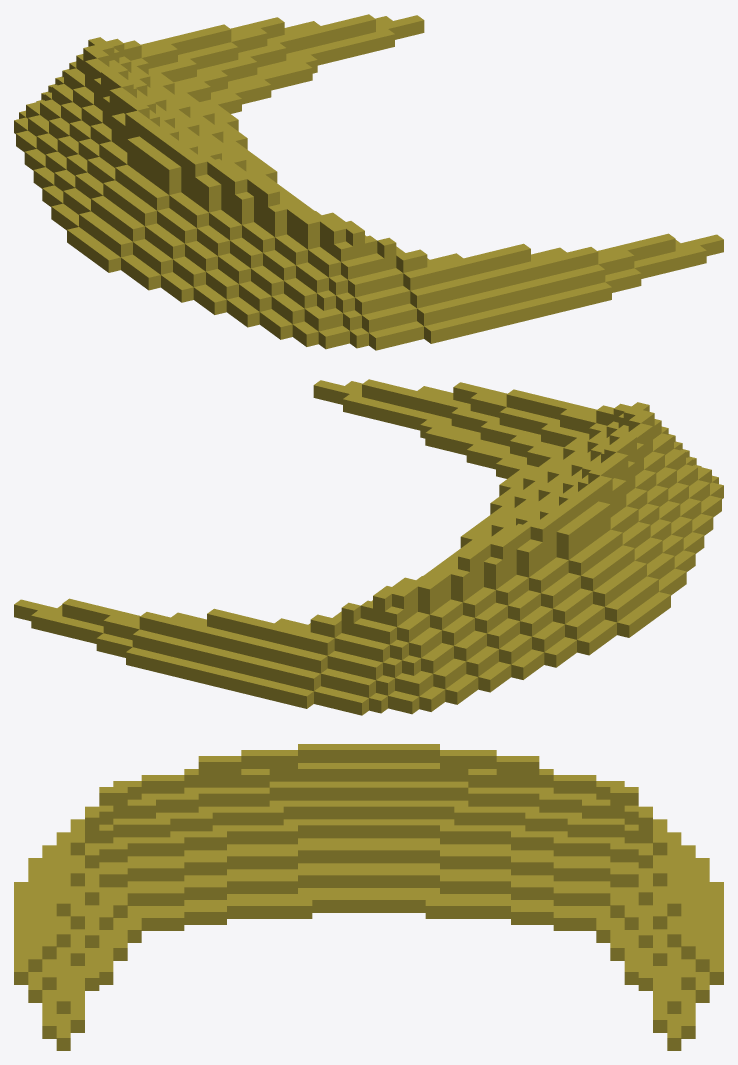
File: dune_4.obj
3 renders of one model, top to bottom at view 1: azimuth 30°, elevation 25°; view 2: azimuth 150°, elevation 25°; view 3: azimuth 270°, elevation 25°, orthographic.
Bounding box in the file's own units: 4 × 0.8 × 5.
1 material, 1 textured.
